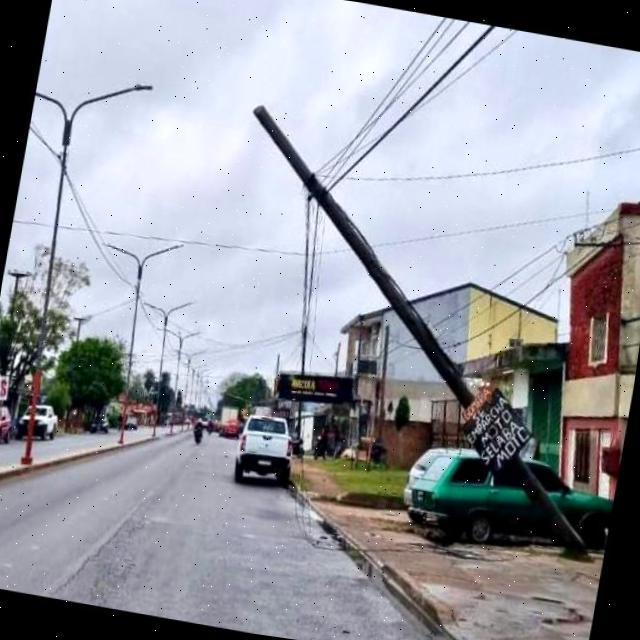Broken Pole: (249, 101, 591, 563)
